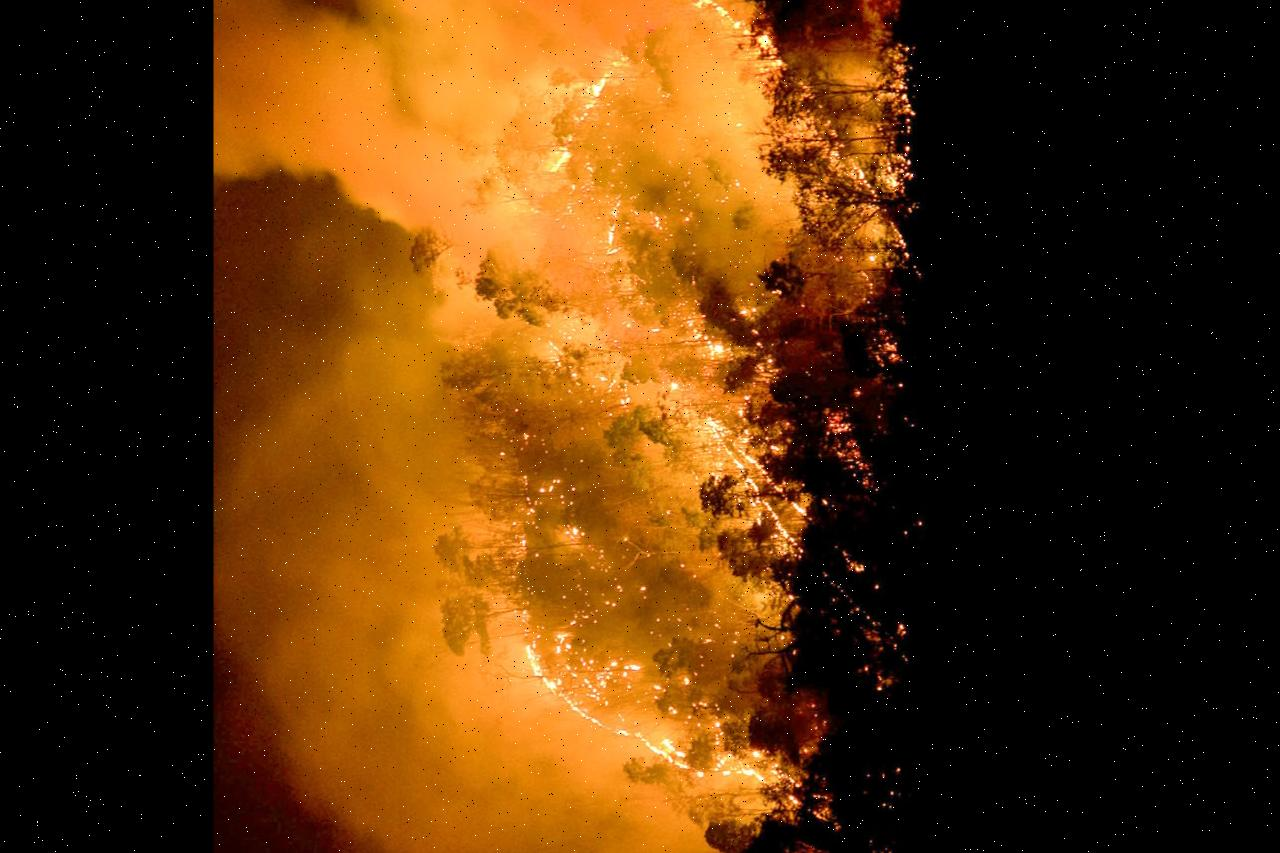fire: (398, 0, 914, 846)
